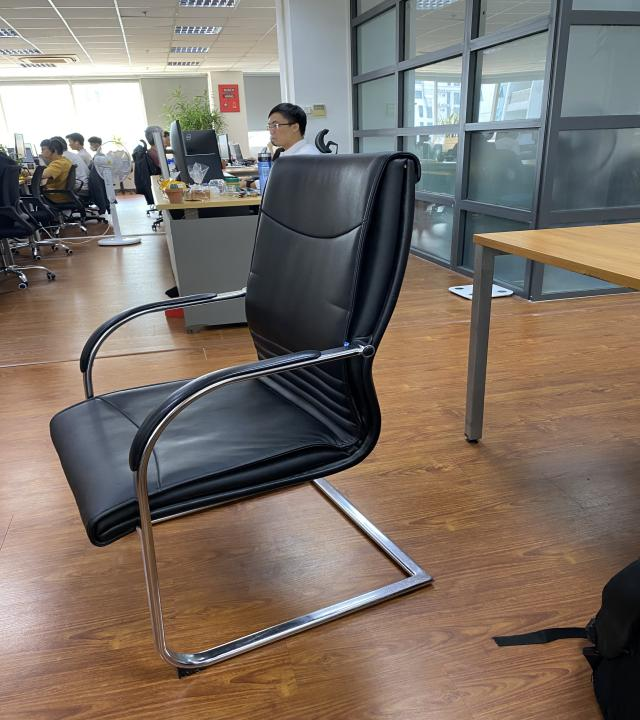SS_03: (45, 150, 434, 674)
